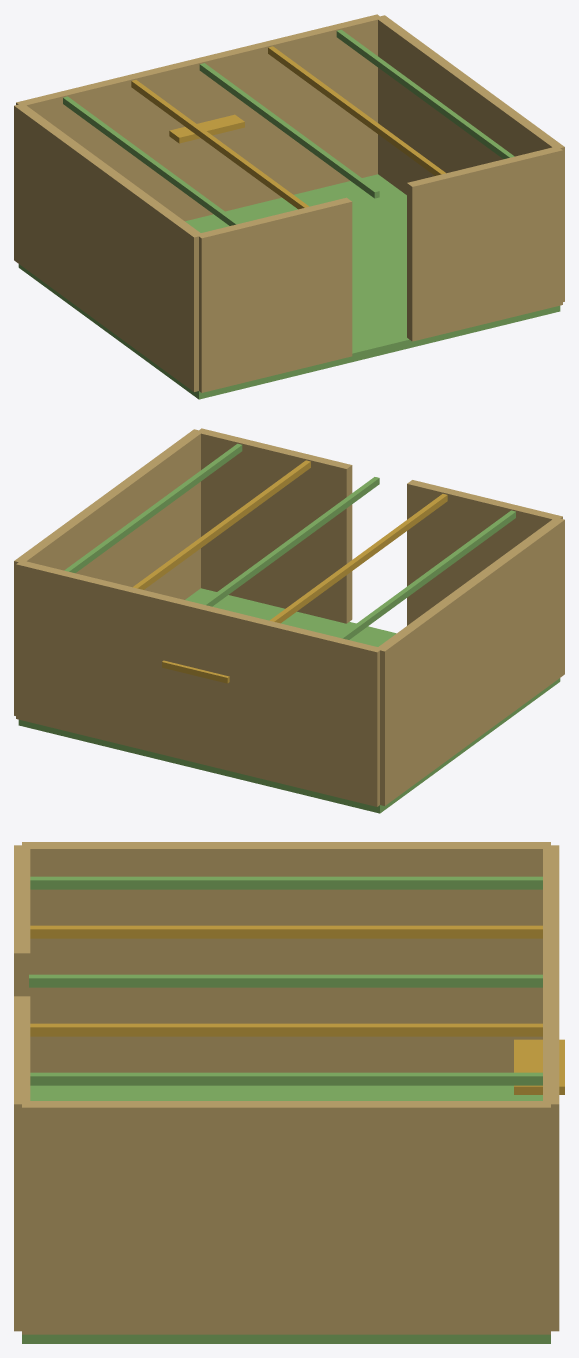
File: outskirts_lodge.glb
The picture shows the model from 3 angles, top to bottom: view 1: azimuth 30°, elevation 25°; view 2: azimuth 150°, elevation 25°; view 3: azimuth 270°, elevation 25°; orthographic projection. The views are drawn at different scales.
Visible parts, largest first — view 1: wall_north, wall_west, wall_south_right, wall_south_left, wall_east, floor, ceiling_beam_0, ceiling_beam_2, ceiling_beam_-1, ceiling_beam_1, ceiling_beam_-2, purpose_adventure_lodge; view 2: wall_north, wall_west, wall_south_right, wall_east, wall_south_left, floor, ceiling_beam_0, ceiling_beam_2, ceiling_beam_-1, ceiling_beam_1, ceiling_beam_-2, purpose_adventure_lodge; view 3: wall_east, wall_west, floor, ceiling_beam_0, ceiling_beam_-2, ceiling_beam_-1, ceiling_beam_1, ceiling_beam_2, wall_north, wall_south_right, wall_south_left, purpose_adventure_lodge.
Part boxes in pixels (<box>): wall_north: <box>16,14,382,221</box>; wall_west: <box>14,104,203,391</box>; wall_south_right: <box>407,146,562,341</box>; wall_south_left: <box>199,197,352,392</box>; wall_east: <box>377,15,564,301</box>; floor: <box>18,174,560,399</box>; ceiling_beam_0: <box>199,63,379,198</box>; ceiling_beam_2: <box>336,29,514,159</box>; ceiling_beam_-1: <box>131,80,308,209</box>; ceiling_beam_1: <box>268,46,445,175</box>; ceiling_beam_-2: <box>63,96,240,225</box>; purpose_adventure_lodge: <box>169,114,244,143</box>; wall_north: <box>16,561,382,806</box>; wall_west: <box>376,517,564,805</box>; wall_south_right: <box>197,428,352,623</box>; wall_east: <box>14,429,203,715</box>; wall_south_left: <box>407,480,562,625</box>; floor: <box>18,588,560,813</box>; ceiling_beam_0: <box>201,477,379,606</box>; ceiling_beam_2: <box>64,443,242,573</box>; ceiling_beam_-1: <box>270,494,447,623</box>; ceiling_beam_1: <box>133,460,310,589</box>; ceiling_beam_-2: <box>338,510,515,639</box>; purpose_adventure_lodge: <box>162,660,229,683</box>; wall_east: <box>22,1101,550,1334</box>; wall_west: <box>22,842,550,1072</box>; floor: <box>22,1085,550,1343</box>; ceiling_beam_0: <box>29,974,542,987</box>; ceiling_beam_-2: <box>30,876,542,889</box>; ceiling_beam_-1: <box>30,925,542,938</box>; ceiling_beam_1: <box>30,1023,542,1036</box>; ceiling_beam_2: <box>30,1072,542,1085</box>; wall_north: <box>543,845,559,1331</box>; wall_south_right: <box>14,996,30,1331</box>; wall_south_left: <box>14,845,30,996</box>; purpose_adventure_lodge: <box>514,1039,564,1094</box>.
Size of what is drawn, in the model's own units: 13.55 by 5.7 by 11.88.
